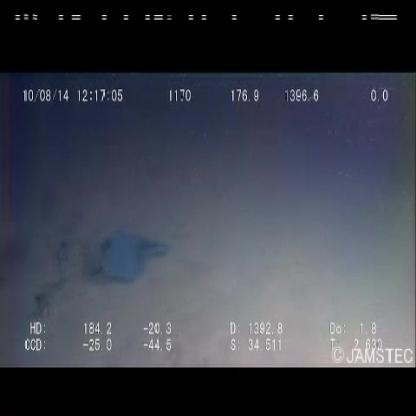Rác: (95, 226, 174, 286)
